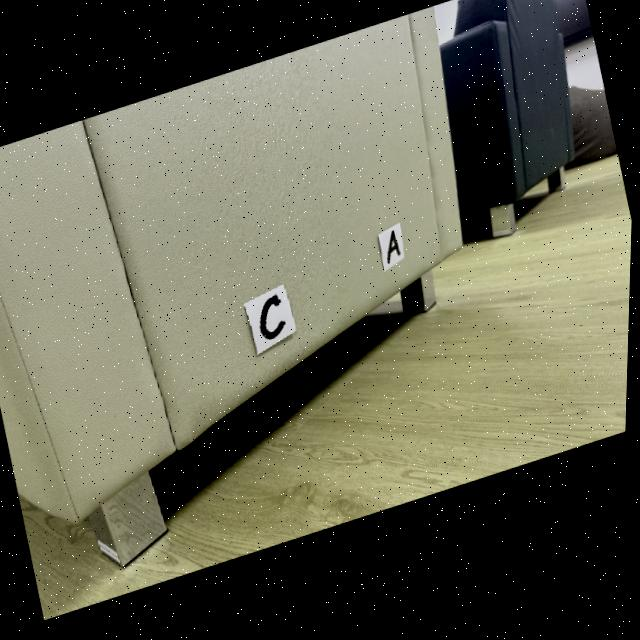A: (389, 238, 402, 270)
C: (262, 300, 287, 345)
